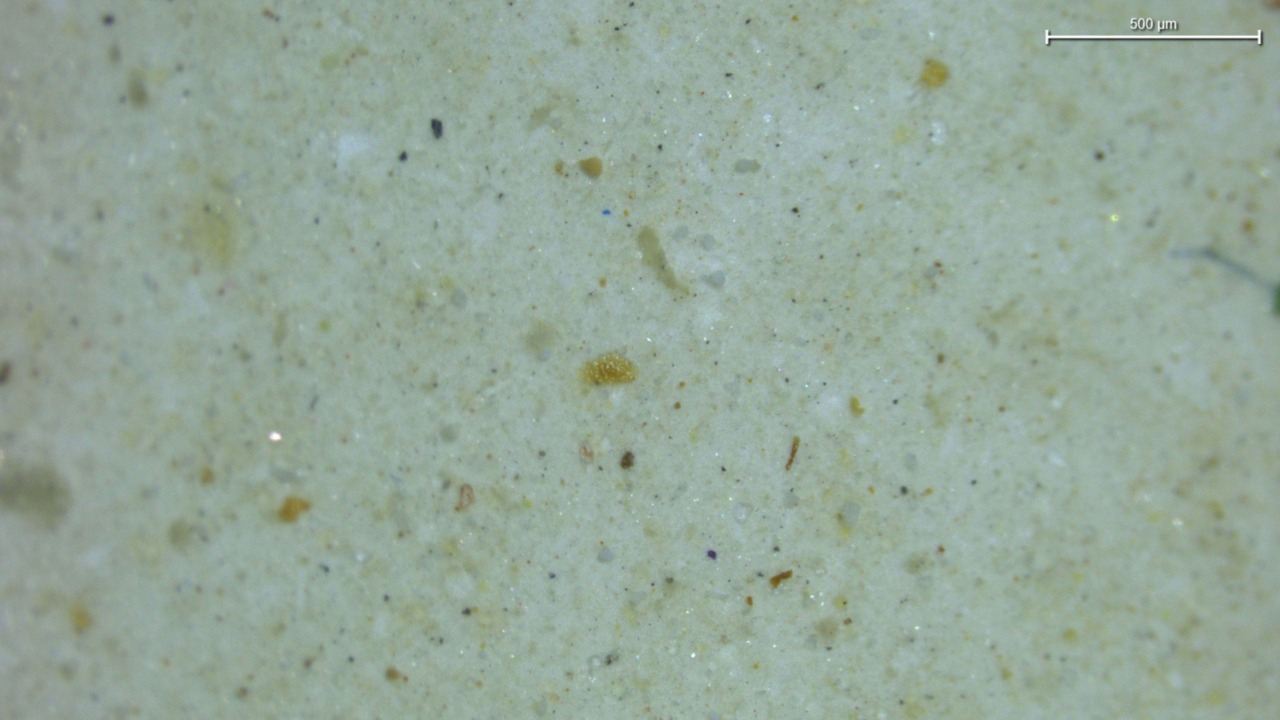microplastic_fragment: (836, 502, 861, 526), (701, 270, 725, 288), (597, 543, 615, 562), (782, 488, 799, 508)
